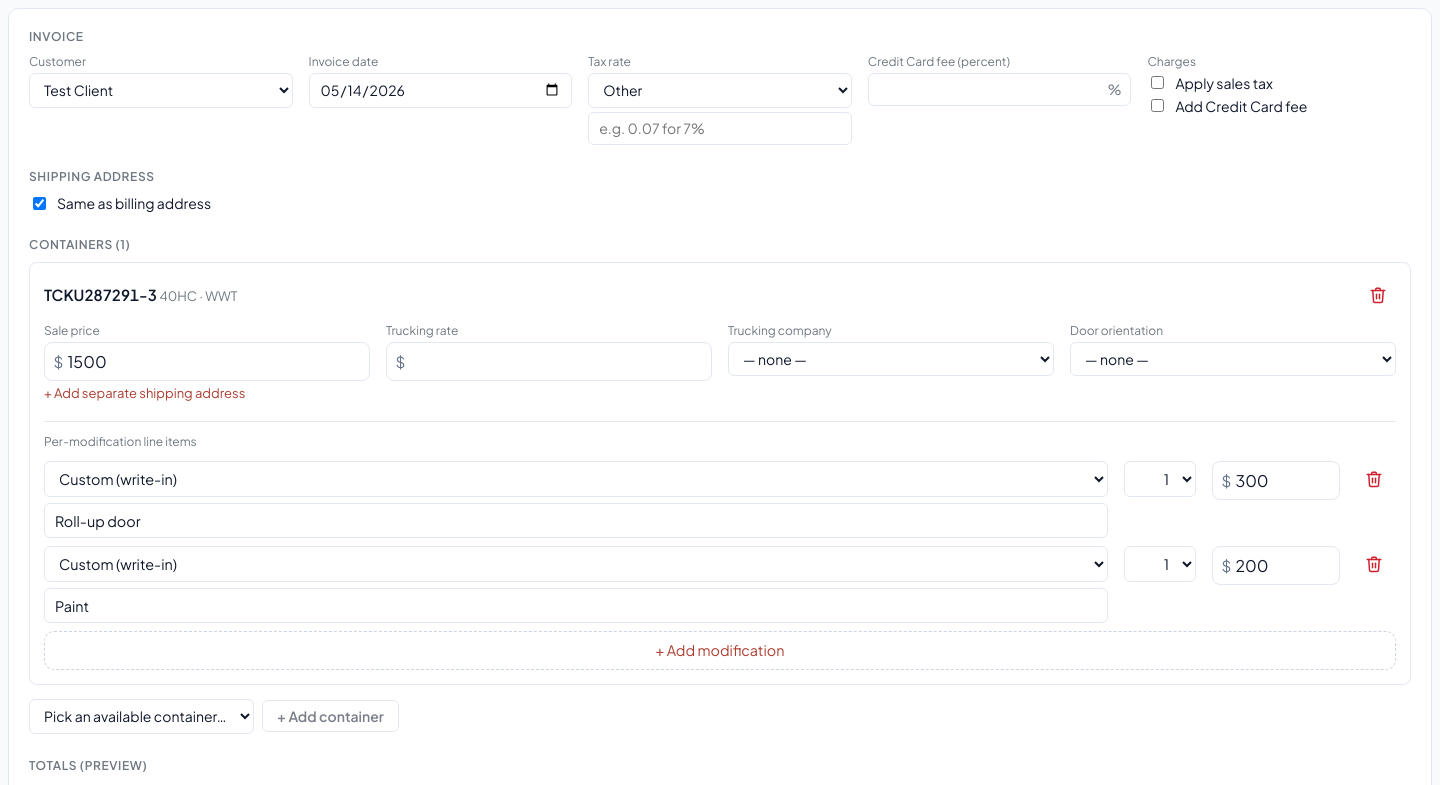
Test: InvoiceEditor › "+ Add modification" appends a blank mod row to the container
Expected: the number of buttons named "Remove modification" is 2, [1356,461,1392,497]; [1356,546,1392,582]
Click the button "+ Add modification" at (720, 650), box [44,631,1396,670]
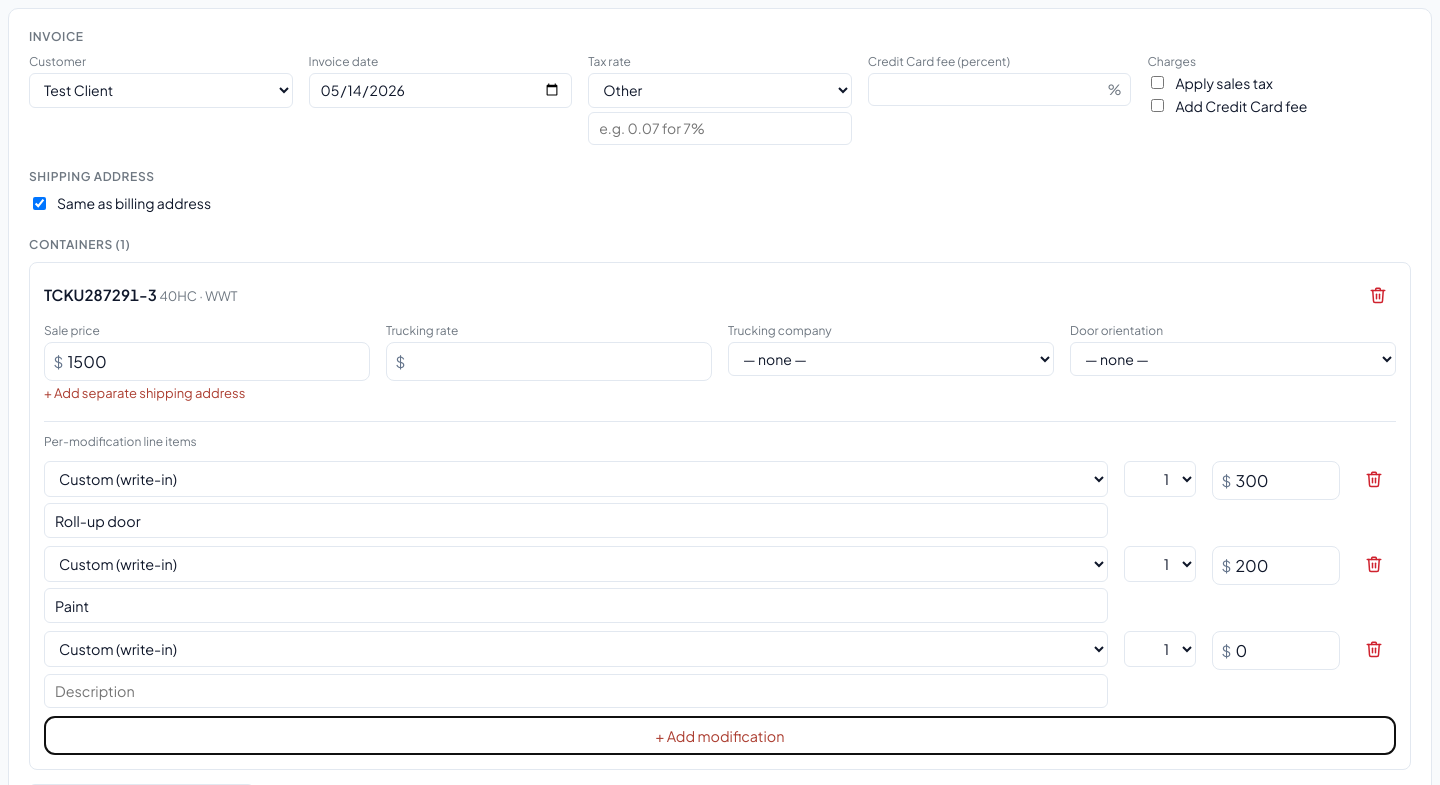
Result: the number of buttons named "Remove modification" is 3 at [1356,461,1392,497]; [1356,546,1392,582]; [1356,631,1392,667]
